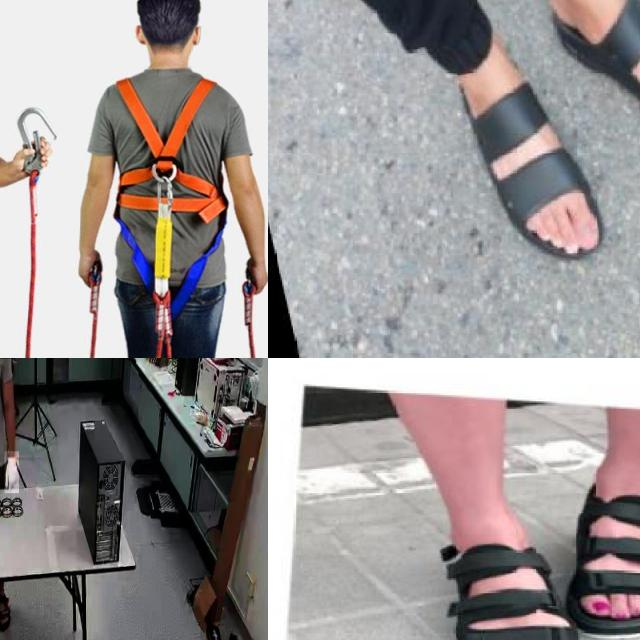Harness: (112, 73, 231, 334)
Sandals: (446, 44, 615, 269), (435, 528, 591, 640), (547, 0, 640, 142), (565, 499, 640, 640)
hand_glove: (4, 451, 20, 494)
